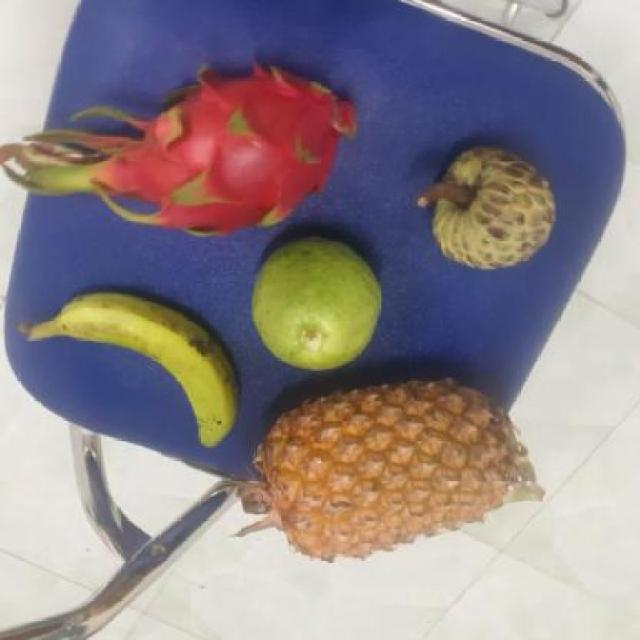banana: (54, 283, 251, 446)
dragon fruit: (118, 64, 356, 238)
guava: (248, 236, 388, 373)
pineapple: (258, 372, 527, 556)
sugar apple: (426, 147, 562, 270)
